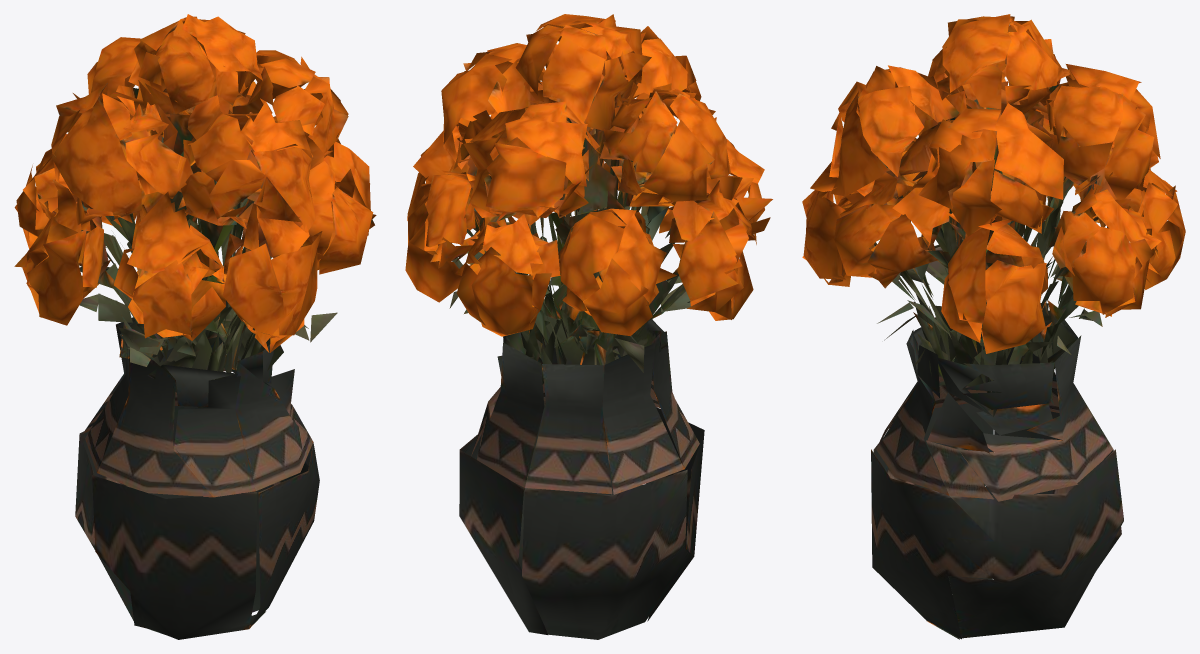
The model's file is marigold_vase.glb.
3 renders of one model, left to right at view 1: azimuth 30°, elevation 25°; view 2: azimuth 150°, elevation 25°; view 3: azimuth 270°, elevation 25°, orthographic.
Parts seen in each view (by area): view 1: marigold_vase; view 2: marigold_vase; view 3: marigold_vase.
Part boxes in pixels (left/top/right/bottom): marigold_vase: left=14, top=14, right=376, bottom=639; marigold_vase: left=405, top=14, right=772, bottom=639; marigold_vase: left=802, top=14, right=1185, bottom=639.
Bounding box in the file's own units: 0.3001 × 0.5054 × 0.2915.
Materials: 1 (1 with a texture image).
